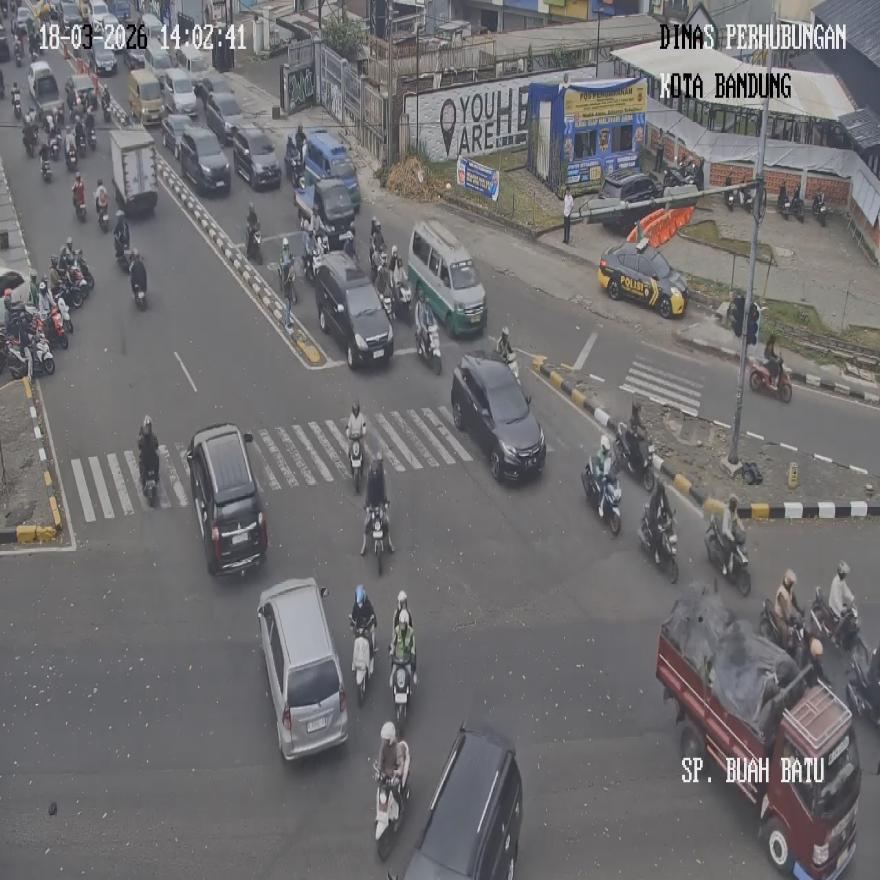Mobil: (654, 583, 862, 876), (388, 721, 522, 879), (256, 576, 348, 759), (186, 423, 268, 577), (451, 352, 547, 480), (410, 218, 487, 338), (314, 253, 393, 368)
Motor: (373, 740, 410, 860), (704, 515, 749, 595), (810, 586, 861, 652), (615, 420, 657, 492), (582, 457, 621, 534), (758, 595, 804, 660), (638, 508, 678, 582), (845, 642, 880, 726), (350, 616, 376, 706), (749, 353, 792, 402), (391, 652, 414, 734), (138, 414, 160, 498), (368, 504, 391, 576), (41, 297, 70, 348), (388, 262, 412, 323), (416, 319, 442, 374), (495, 328, 518, 382), (140, 446, 158, 507), (284, 137, 304, 189), (129, 253, 146, 309), (349, 432, 364, 491), (114, 233, 132, 272), (246, 221, 262, 262), (72, 176, 86, 221), (95, 194, 109, 234), (790, 187, 805, 221), (64, 134, 77, 173), (812, 191, 826, 226), (40, 139, 51, 181), (724, 178, 737, 212), (11, 82, 22, 117)
